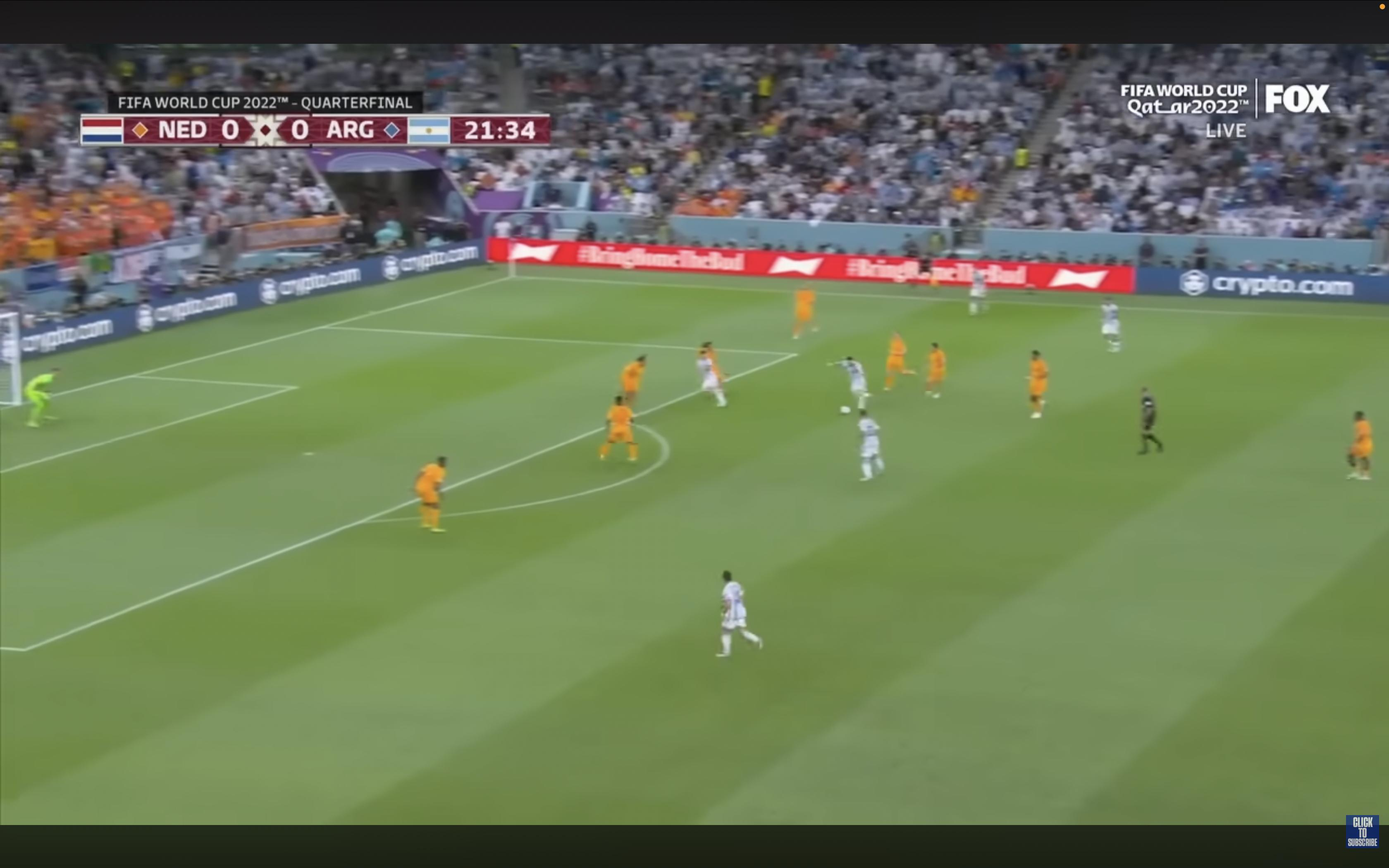ball: (839, 406, 851, 415)
goalkeeper: (24, 368, 59, 428)
player: (717, 571, 763, 657), (599, 396, 638, 461), (415, 457, 447, 533), (829, 357, 869, 410), (858, 410, 885, 481), (1347, 411, 1373, 481), (697, 343, 726, 405), (884, 333, 914, 391), (1028, 350, 1049, 419), (621, 355, 647, 410), (792, 286, 818, 339), (925, 343, 947, 398), (1101, 298, 1120, 351), (969, 270, 987, 315)
referee: (1138, 387, 1164, 455)
